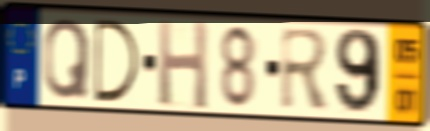8: (218, 23, 259, 112)
9: (333, 26, 387, 119)
D: (92, 16, 143, 105)
H: (155, 18, 210, 113)
Q: (42, 16, 92, 103)
R: (279, 25, 333, 113)
